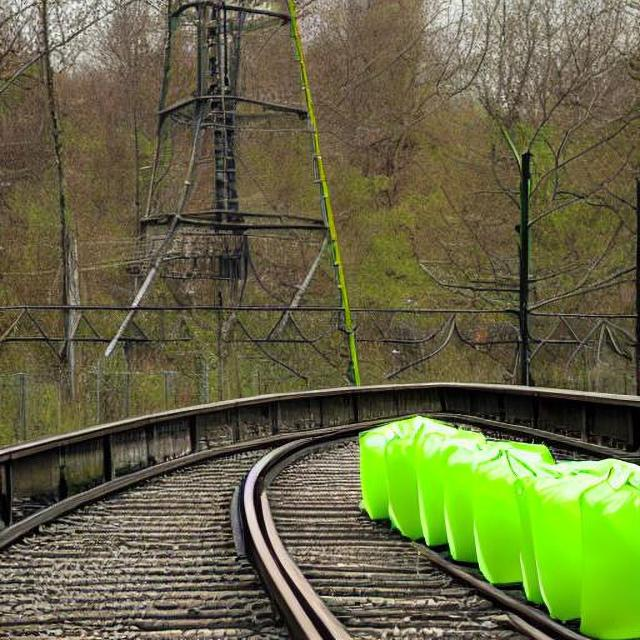plastic bag: (359, 416, 634, 628)
